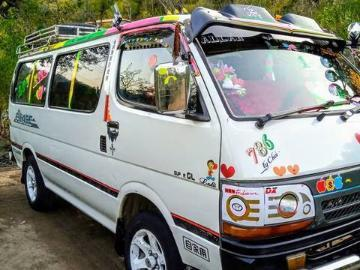van: (6, 9, 360, 261)
